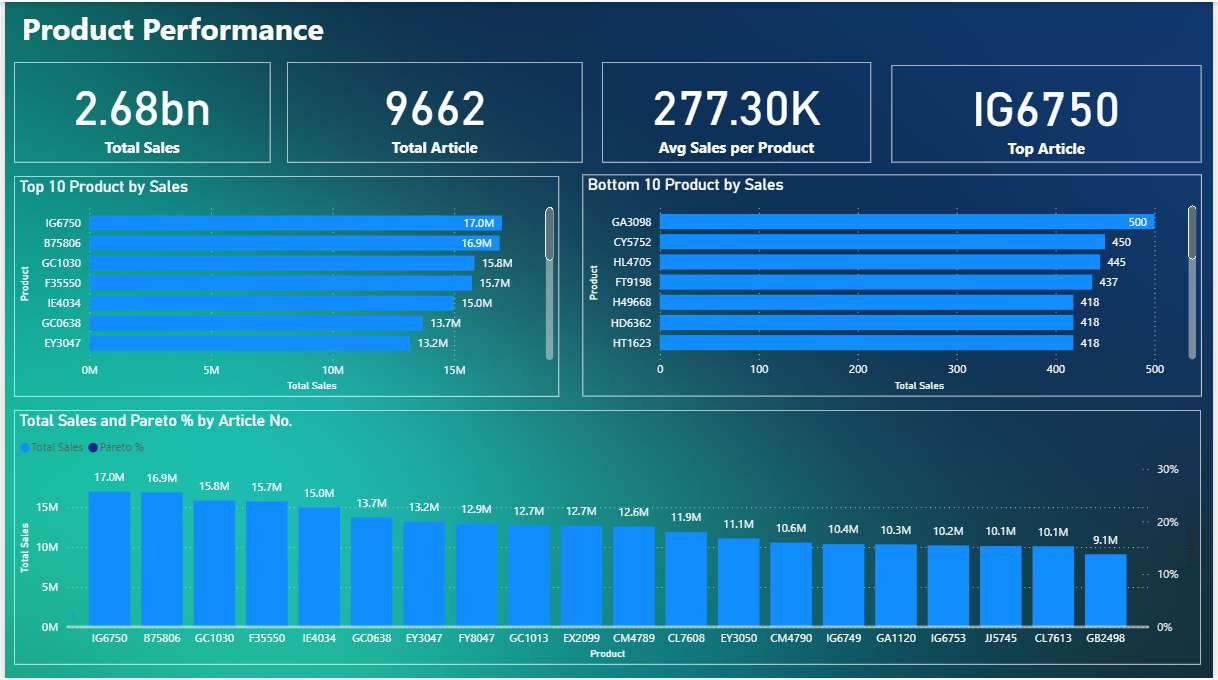

The dashboard page shown, as its layout file describes it:
{"tool":"powerbi","page":{"name":"Product Performance","canvas":[1280,720],"ordinal":1},"visuals":[{"type":"clusteredBarChart","title":"Top 10 Product by Sales","fields":{"Category":["Dim_Article.Article No."],"Y":["Fact_Sales.Total Sales"]},"box":[10,184,578,234],"z":0},{"type":"clusteredBarChart","title":"Bottom 10 Product by Sales","fields":{"Category":["Dim_Article.Article No."],"Y":["Fact_Sales.Total Sales"]},"box":[611.7,183.3,656.7,235],"z":1000},{"type":"card","fields":{"Values":["Fact_Sales.Total Sales"]},"box":[10,63.3,271.7,106.7],"z":2000},{"type":"card","fields":{"Values":["Fact_Sales.Total Article"]},"box":[298.3,63.3,313.3,106.7],"z":3000},{"type":"card","fields":{"Values":["Dim_Article.Avg Sales per Product"]},"box":[633.3,63.3,285,106.7],"z":4000},{"type":"card","fields":{"Values":["Dim_Article.Top Article"]},"box":[940,66.7,328.3,103.3],"z":5000},{"type":"textbox","box":[12,0,378,78],"z":6000},{"type":"lineClusteredColumnComboChart","fields":{"Category":["Dim_Article.Article No."],"Y":["Fact_Sales.Total Sales"],"Y2":["Fact_Sales.Pareto %"]},"box":[10,433.3,1258.3,270],"z":7000}]}

Visuals, with their boxes in screenshot pixels (x1, y1, x2, y2), scaled from the page's 1280x720 canvas onto the 1218x680 screenshot:
"Top 10 Product by Sales" clusteredBarChart: 10 174 560 395
"Bottom 10 Product by Sales" clusteredBarChart: 582 173 1207 395
card - Fact_Sales.Total Sales: 10 60 268 161
card - Fact_Sales.Total Article: 284 60 582 161
card - Dim_Article.Avg Sales per Product: 603 60 874 161
card - Dim_Article.Top Article: 894 63 1207 161
textbox: 11 0 371 74
lineClusteredColumnComboChart - Dim_Article.Article No. x Fact_Sales.Total Sales: 10 409 1207 664
